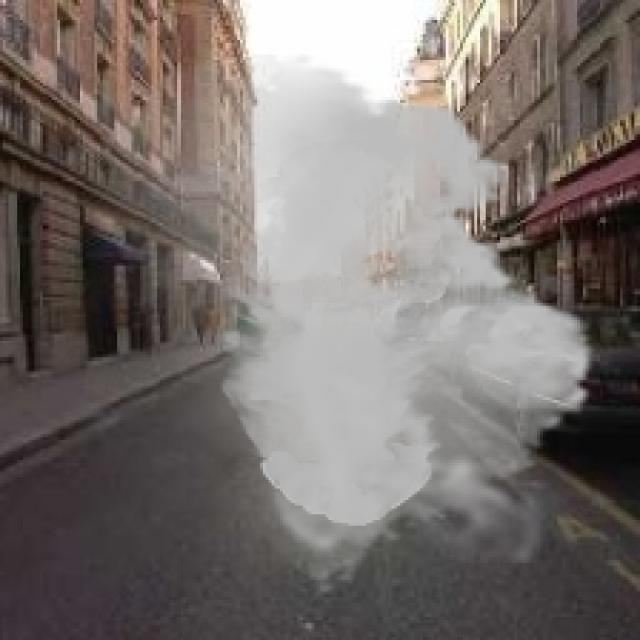Smoke: (66, 54, 614, 597)
